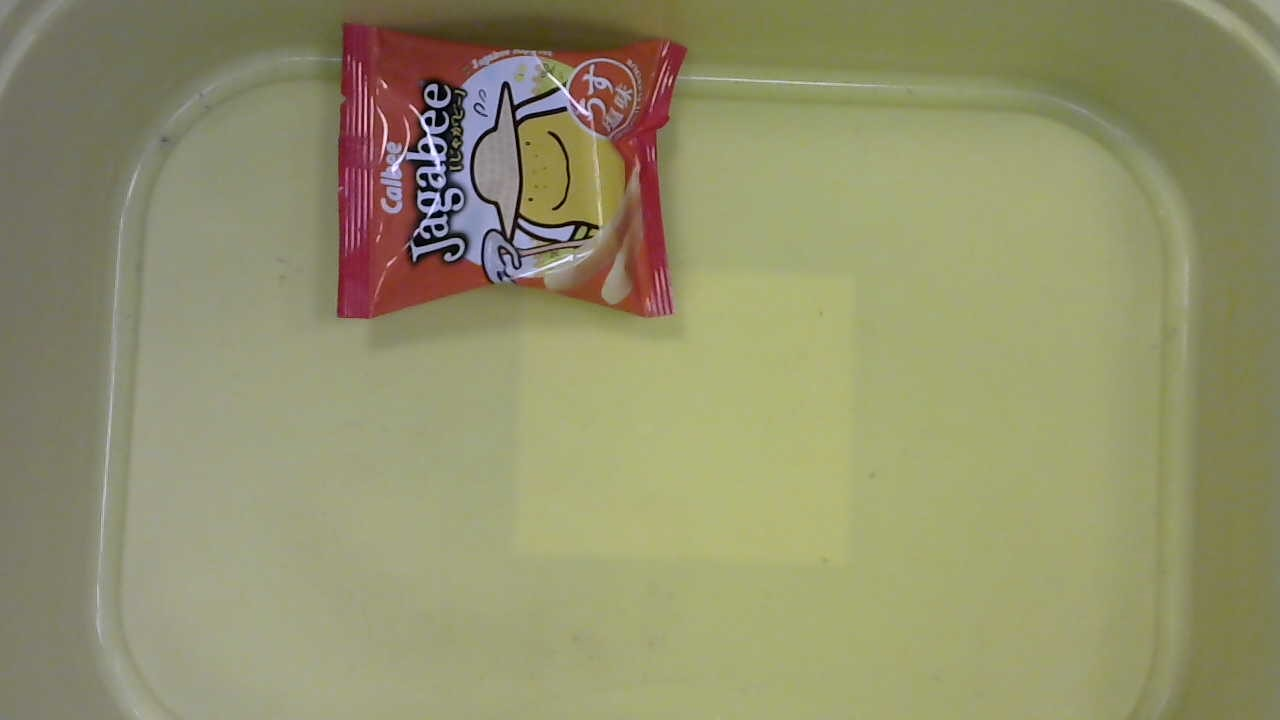JagabeeFarmer: (307, 10, 700, 340)
